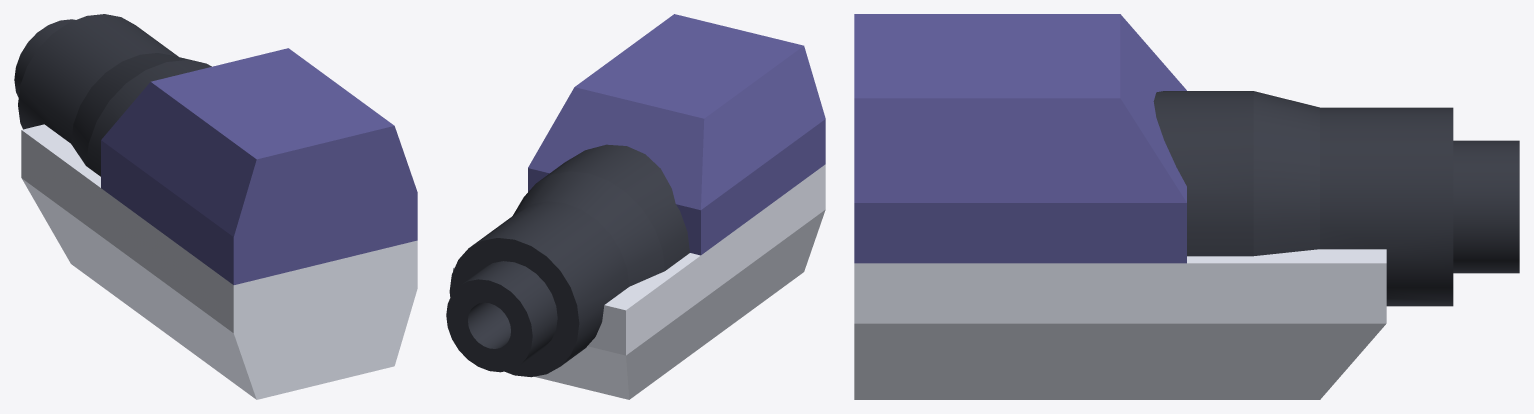
The model's file is Gun.glb.
3 views of the same model, side by side, from view 1: azimuth 30°, elevation 25°; view 2: azimuth 150°, elevation 25°; view 3: azimuth 270°, elevation 25° (orthographic). The views are drawn at different scales.
Parts seen in each view (by area): view 1: mediumBlaster_barrelLarge; view 2: mediumBlaster_barrelLarge; view 3: mediumBlaster_barrelLarge.
Part boxes in pixels (x1,y1,x2,y2): mediumBlaster_barrelLarge: (14,14,417,399); mediumBlaster_barrelLarge: (446,14,825,399); mediumBlaster_barrelLarge: (854,14,1519,399).
Bounding box in the file's own units: 0.4 × 0.5 × 1.
